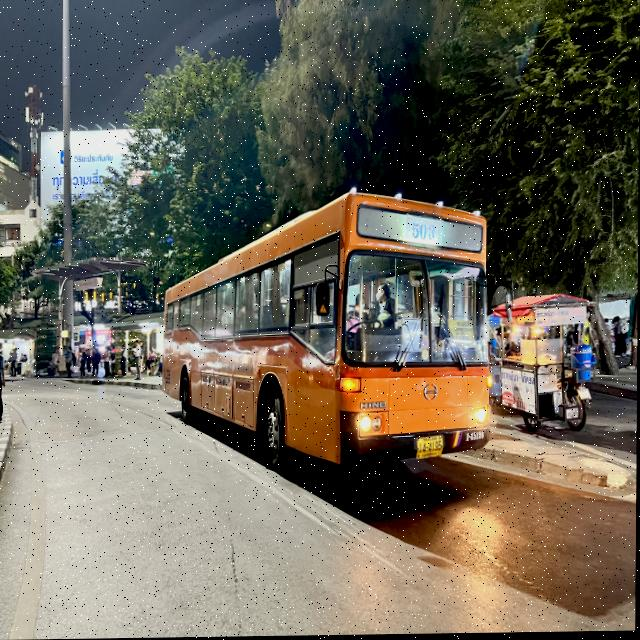BMTA-bus: (162, 189, 496, 479)
Bus-Line-Number: (403, 213, 444, 249)
Destination-Sign-Normal-Expressway: (446, 320, 478, 349)
